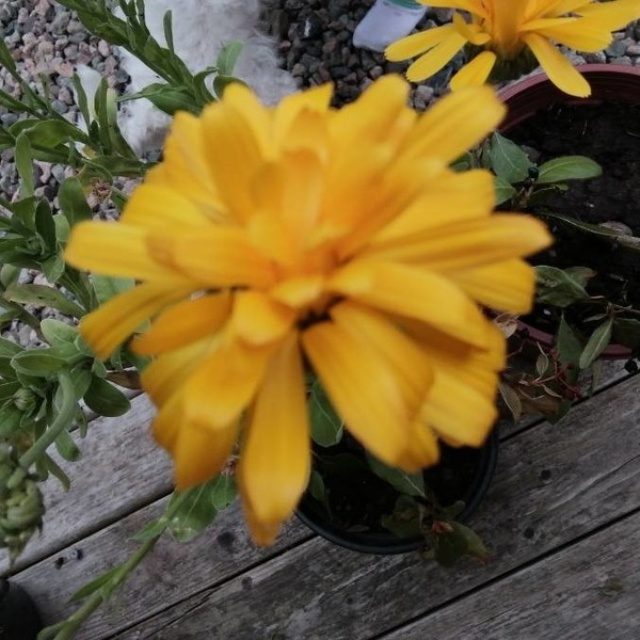obstacle: (97, 86, 566, 522)
